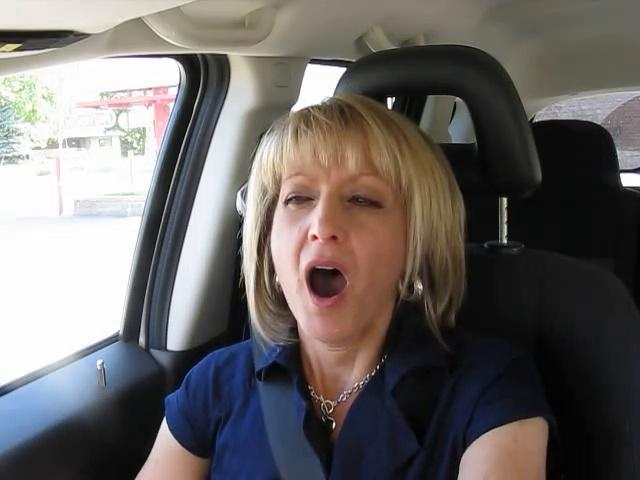close_eyeL: (276, 182, 327, 217)
close_eyeR: (331, 185, 395, 222)
yawn: (289, 258, 359, 307)
